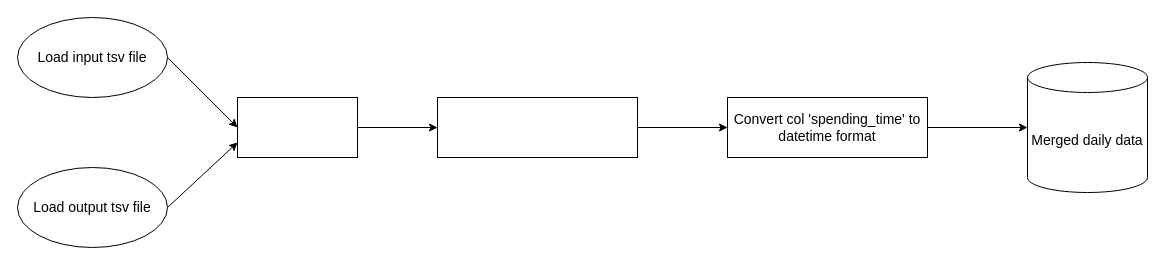
The diagram is 1165 pixels wide and 265 high, and some of its shapes have lost their labels. The box of each missing label's shape, as (x1, y1, x2, y2) in pixels:
drop na on 'spending_transaction_hash': (436, 96, 638, 158)
merge on cols: 'transaction_hash' and 'index': (236, 96, 358, 158)
